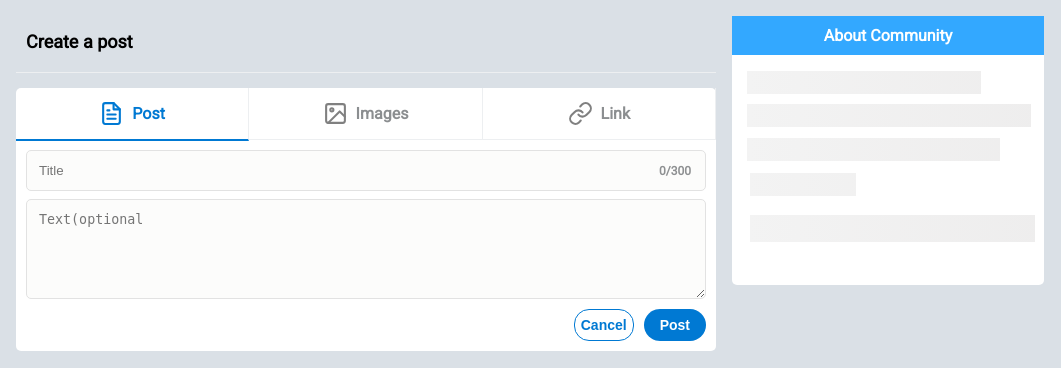
it: CreatePost › Tabs work › Link
This screenshot has width=1061, height=368.
Click the element with test id "link-tab" at (599, 113), box 483,88 -> 716,139
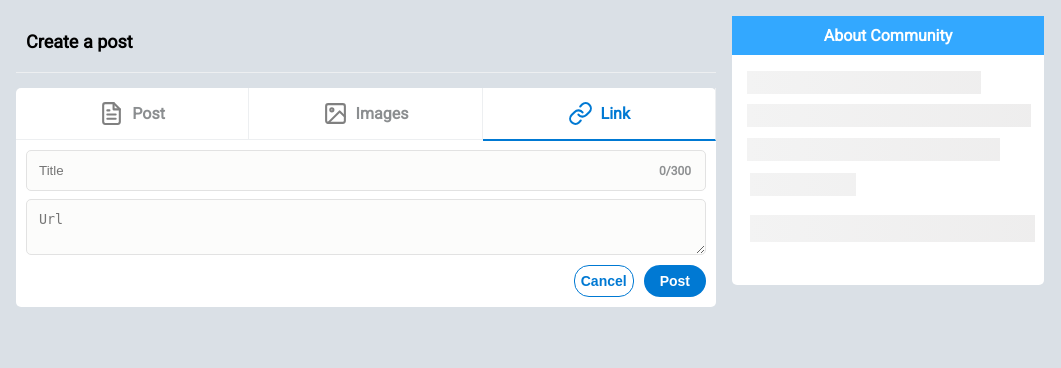
Expected: the field with placeholder "Title" is shown, 26,150 -> 706,191
Expected: the text box with placeholder "Url" is shown, 26,199 -> 706,255
